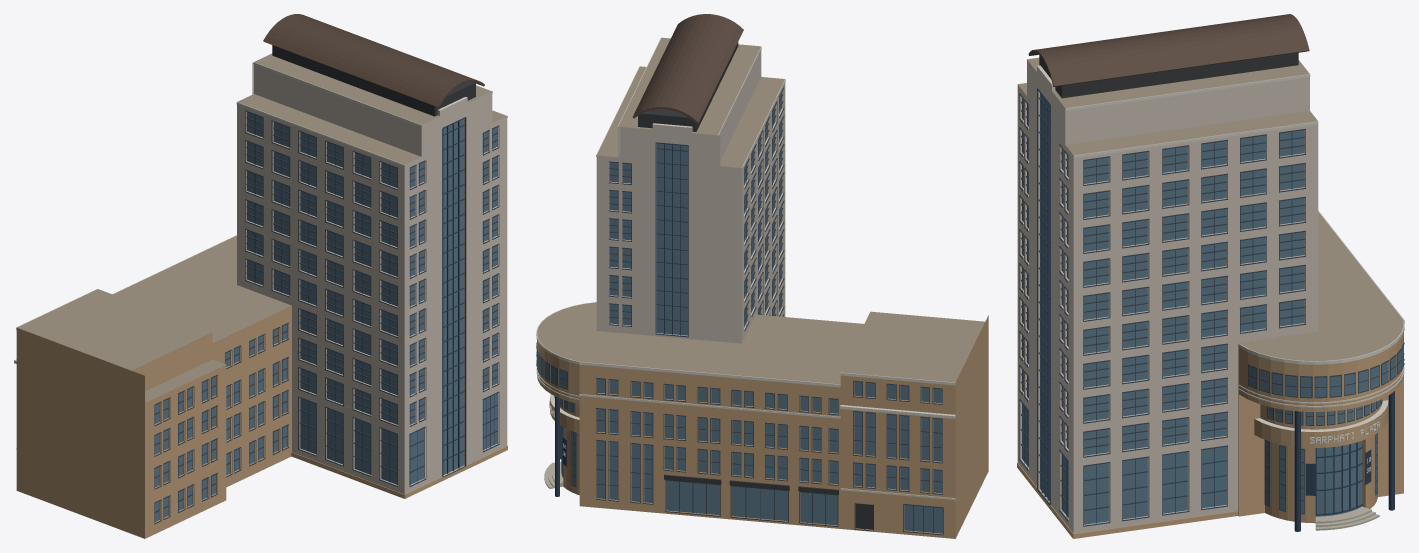
The model's file is sarphati-plaza.glb.
The picture shows the model from 3 angles, left to right: view 1: azimuth 30°, elevation 25°; view 2: azimuth 150°, elevation 25°; view 3: azimuth 270°, elevation 25°; orthographic projection. The views are drawn at different scales.
Visible parts, largest first — view 1: sarphati-plaza; view 2: sarphati-plaza; view 3: sarphati-plaza.
Part boxes in pixels (box(x1,y1,x2,y2)): sarphati-plaza: box(14, 14, 507, 538); sarphati-plaza: box(536, 14, 988, 538); sarphati-plaza: box(1017, 14, 1404, 538).
Size of the model in its own units: 46.57 by 42.45 by 33.1.
